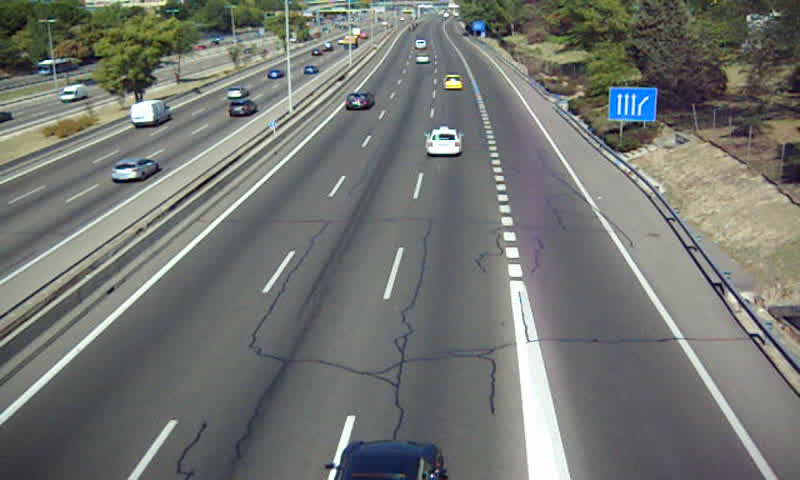car: (429, 128, 461, 158), (344, 92, 375, 110), (443, 74, 463, 90), (414, 52, 431, 65)
